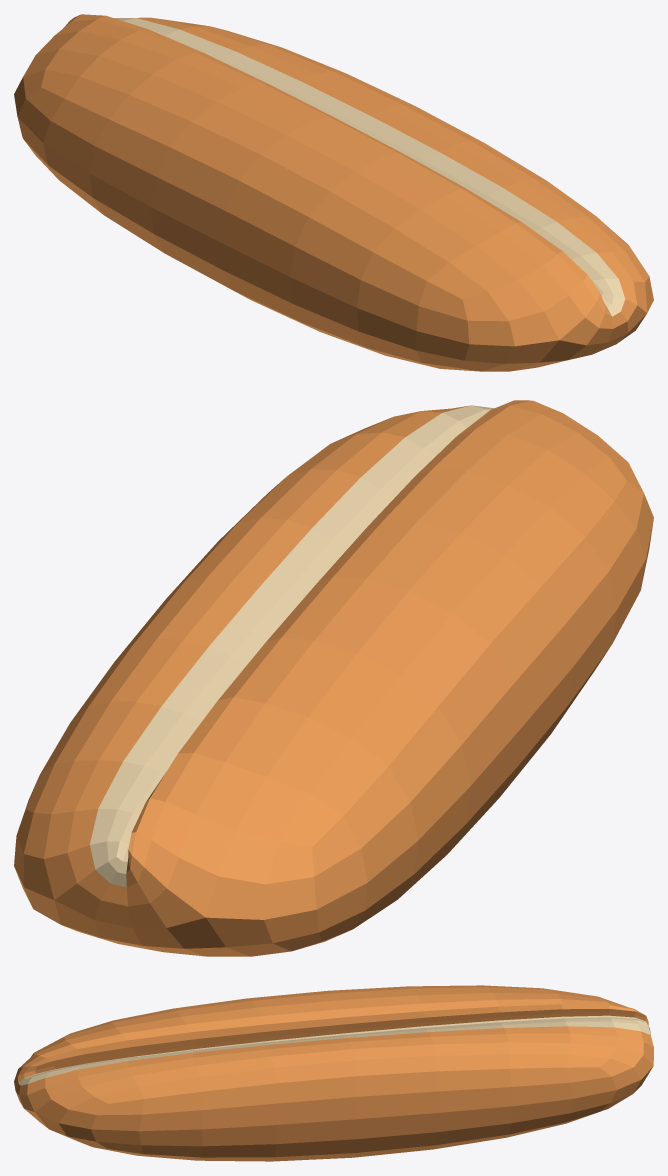
The model's file is market-bread2.fbx.
3 views of the same model, one above another, from view 1: azimuth 30°, elevation 25°; view 2: azimuth 150°, elevation 25°; view 3: azimuth 270°, elevation 25° (orthographic). The views are drawn at different scales.
Parts seen in each view (by area): view 1: Cube.136; view 2: Cube.136; view 3: Cube.136.
Part boxes in pixels (x1,y1,x2,y2): Cube.136: [14, 14, 653, 371]; Cube.136: [14, 400, 653, 956]; Cube.136: [14, 985, 653, 1161].
Bounding box in the file's own units: 38.71 × 20.28 × 91.54.
